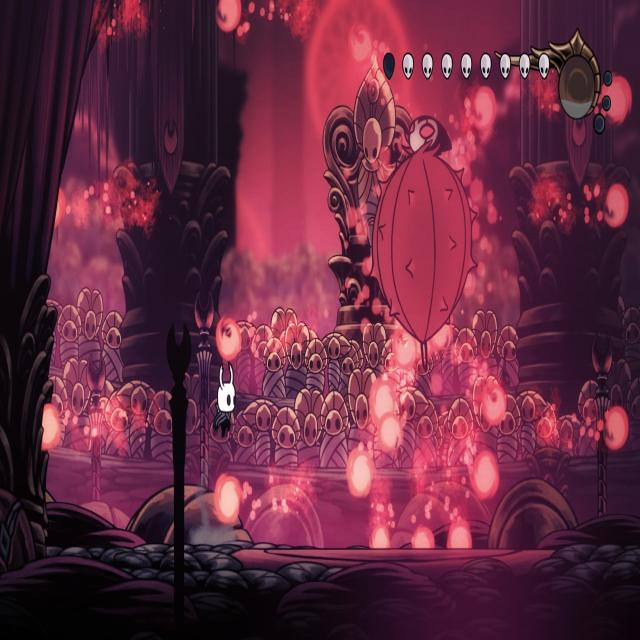Player: (213, 360, 240, 440)
Pufferfish: (364, 112, 482, 377)
Tiny Fireballs: (469, 451, 498, 501), (346, 449, 374, 499), (604, 77, 632, 126), (472, 84, 497, 138), (215, 475, 242, 522), (217, 318, 242, 362), (603, 183, 627, 228), (603, 407, 627, 452), (368, 379, 393, 422), (482, 384, 507, 426), (392, 328, 417, 370), (348, 25, 372, 65), (40, 404, 60, 451), (379, 414, 402, 454), (216, 0, 240, 34), (448, 521, 472, 549), (412, 526, 433, 549), (371, 524, 390, 548)
